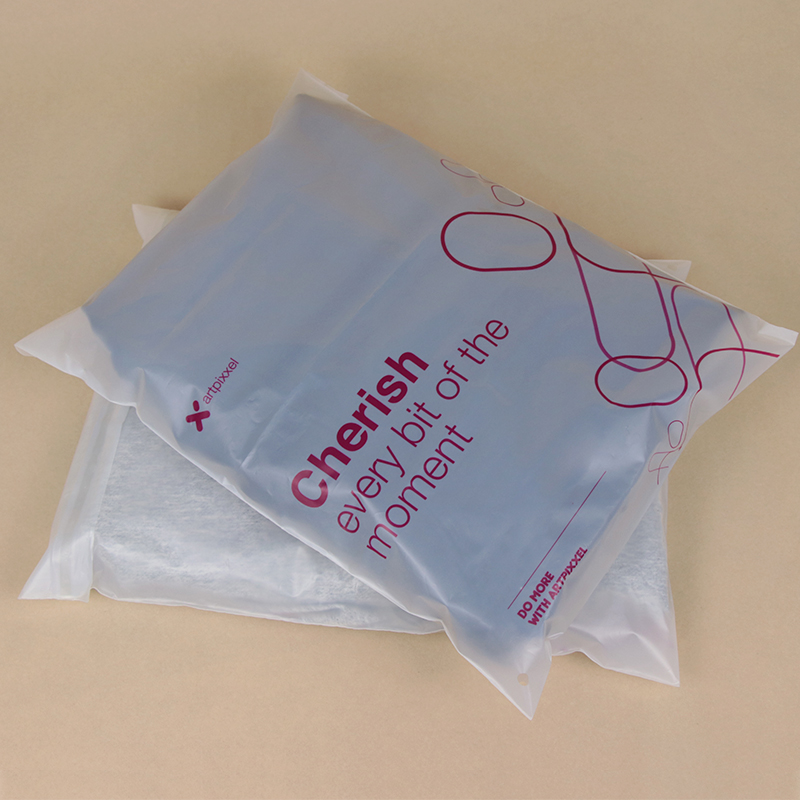塑料袋: (19, 92, 796, 716)
